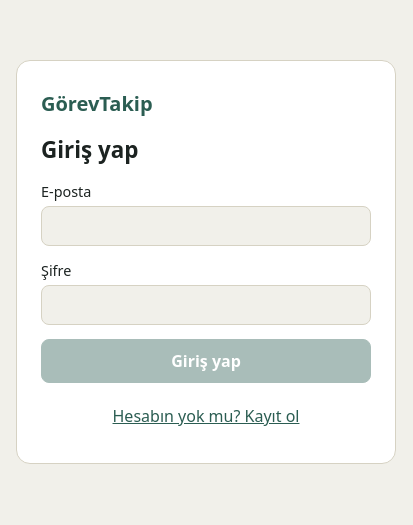
it: AuthForm: kayıt modu › sunucunun doğrulama mesajını gösterir
The image size is (413, 525).
Click the button "Hesabın yok mu? Kayıt ol" at coordinates (206, 416), box 41,397 -> 371,435
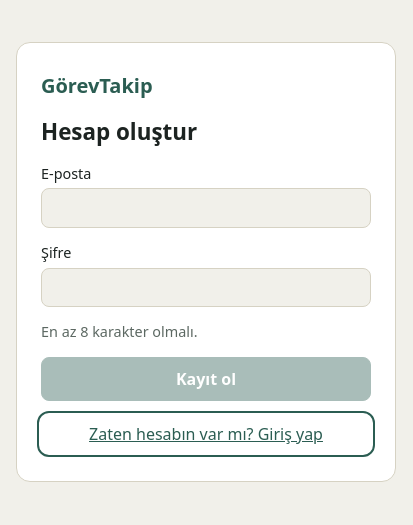
Type "ali@ornek.com" into the field labelled "E-posta" at coordinates (206, 208), box 41,188 -> 371,228
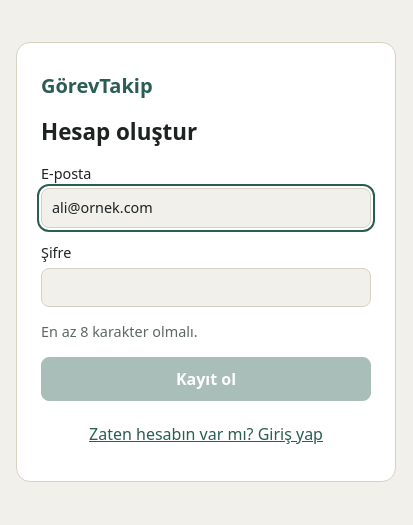
Type "kisa" into the password field labelled "Şifre" at coordinates (206, 287), box 41,268 -> 371,307
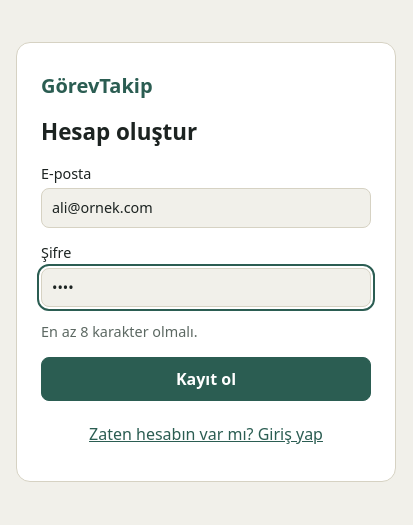
Click the button "Kayıt ol" at coordinates (206, 379), box 41,357 -> 371,401
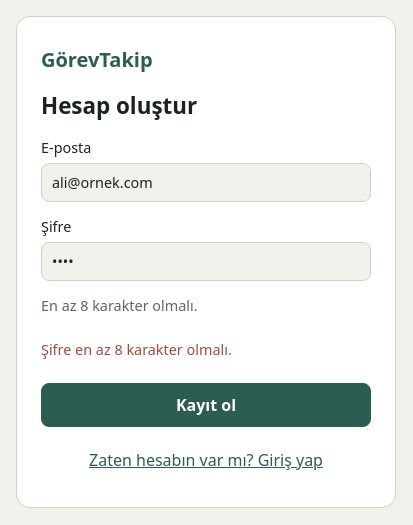
Expected: the message reads "Şifre en az 8 karakter olmalı.", 41,340 -> 232,359
